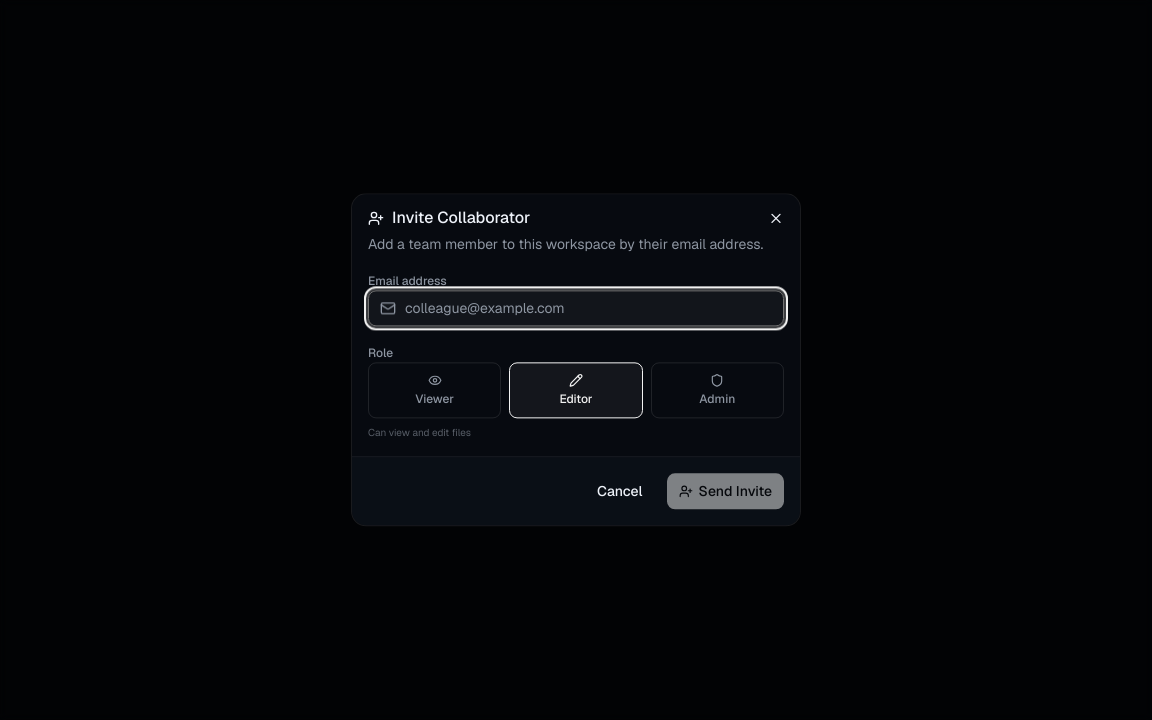
Test: InviteCollaboratorDialog › shows success message after invite
Step 1. Type "test@example.com" into the field with placeholder "colleague@example.com" → (576, 308), box [368, 290, 784, 326]
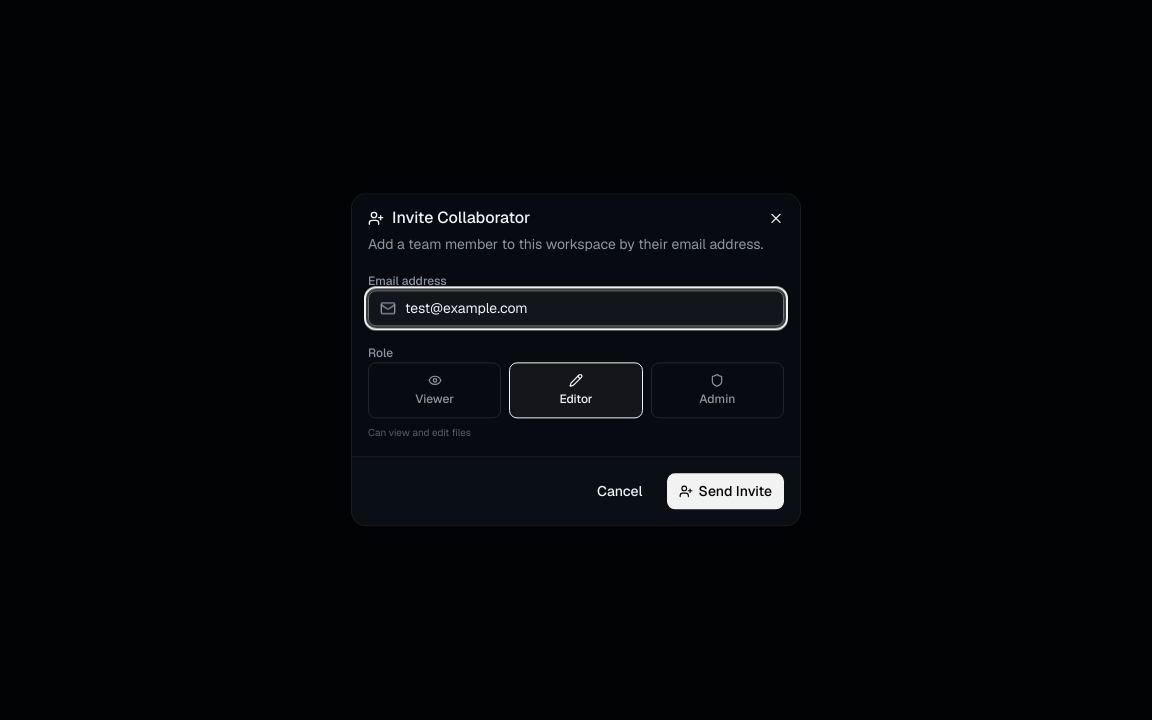
Step 2. Click the button "Send Invite" → (725, 492), box [667, 474, 784, 510]
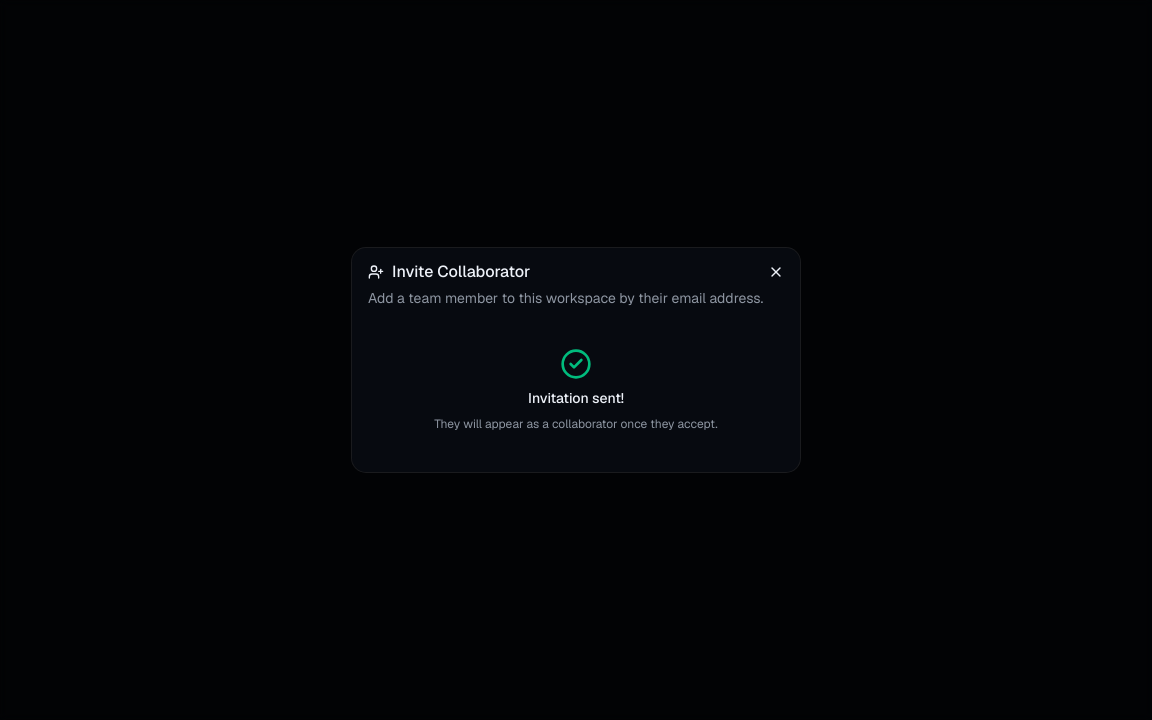
Result: the text "Invitation sent!" is shown at [528, 388, 624, 408]
